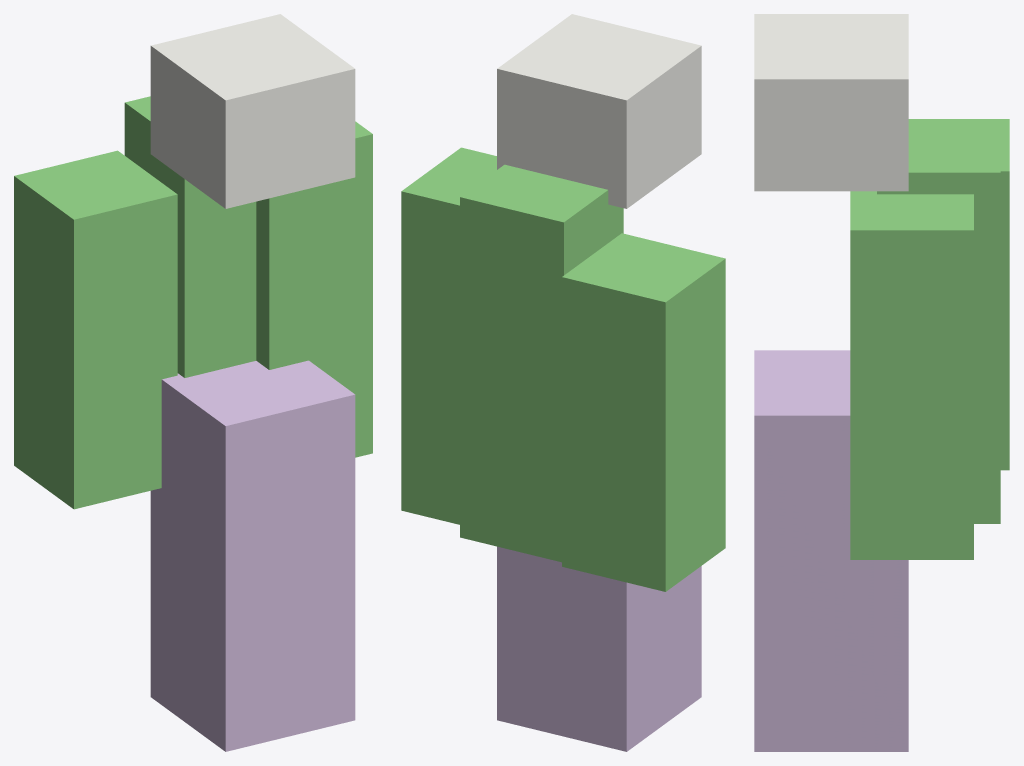
The model's file is Item_Herb_AMF_Pawmint_Bundle2.glb.
3 views of the same model, side by side, from view 1: azimuth 30°, elevation 25°; view 2: azimuth 150°, elevation 25°; view 3: azimuth 270°, elevation 25° (orthographic). The views are drawn at different scales.
Parts seen in each view (by area): view 1: Item_Herb_AMF_Pawmint_Bundle2; view 2: Item_Herb_AMF_Pawmint_Bundle2; view 3: Item_Herb_AMF_Pawmint_Bundle2.
Part boxes in pixels (x1=…): Item_Herb_AMF_Pawmint_Bundle2: x1=14, y1=14, x2=372, y2=751; Item_Herb_AMF_Pawmint_Bundle2: x1=401, y1=14, x2=725, y2=751; Item_Herb_AMF_Pawmint_Bundle2: x1=754, y1=14, x2=1009, y2=751.
Size of the model in its own units: 0.1086 by 0.24 by 0.0827.
